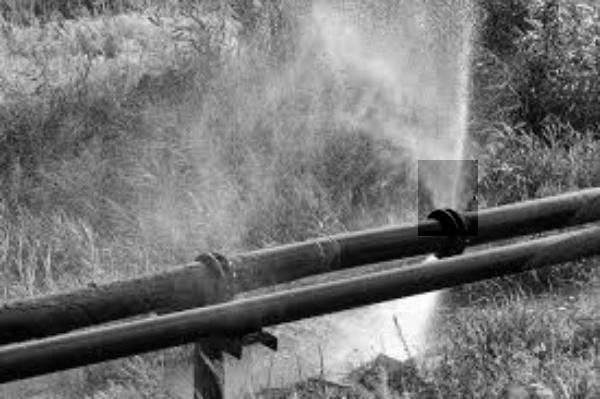water: (418, 160, 478, 236)
